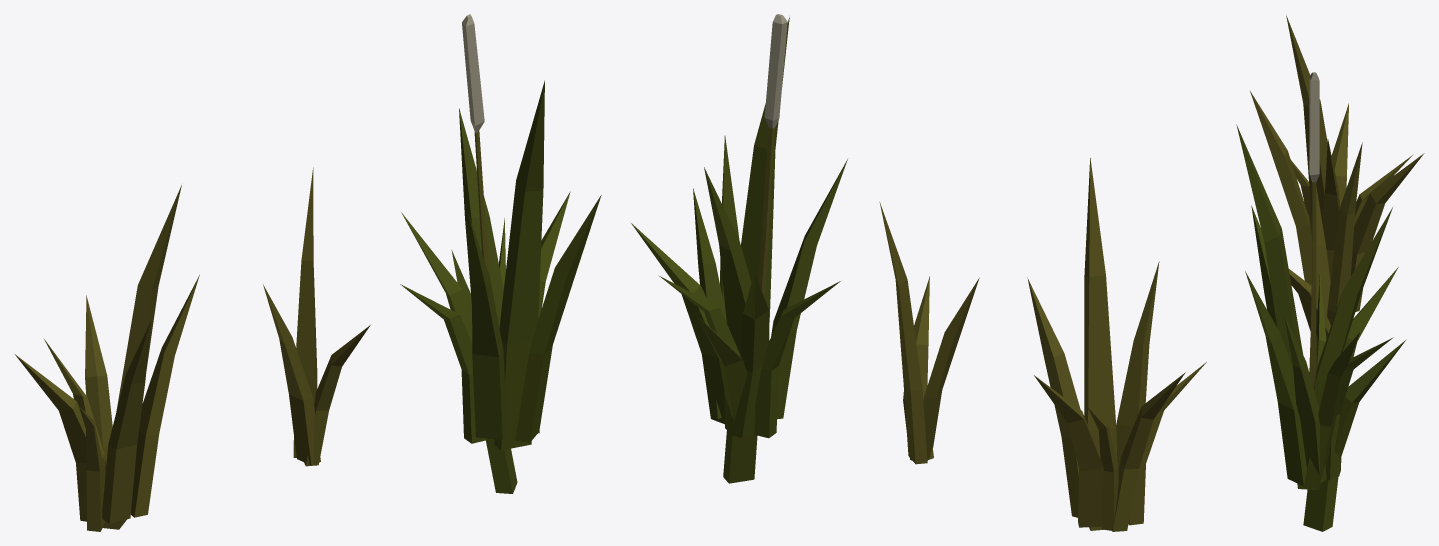
File: grass.fbx
3 views of the same model, side by side, from view 1: azimuth 30°, elevation 25°; view 2: azimuth 150°, elevation 25°; view 3: azimuth 270°, elevation 25° (orthographic). The views are drawn at different scales.
Visible parts, largest first — view 1: Cube.148, Cube.146, Cube.147; view 2: Cube.148, Cube.146, Cube.147; view 3: Cube.148, Cube.146, Cube.147.
Part boxes in pixels (x1,y1,x2,y2): Cube.148: (400,14,601,493); Cube.146: (15,185,199,531); Cube.147: (263,167,370,466); Cube.148: (631,14,847,483); Cube.146: (1027,158,1206,531); Cube.147: (879,202,979,464); Cube.148: (1236,72,1406,531); Cube.146: (1250,15,1424,311); Cube.147: (1288,142,1362,339).
Size of the model in its own units: 865 by 709 by 278.
